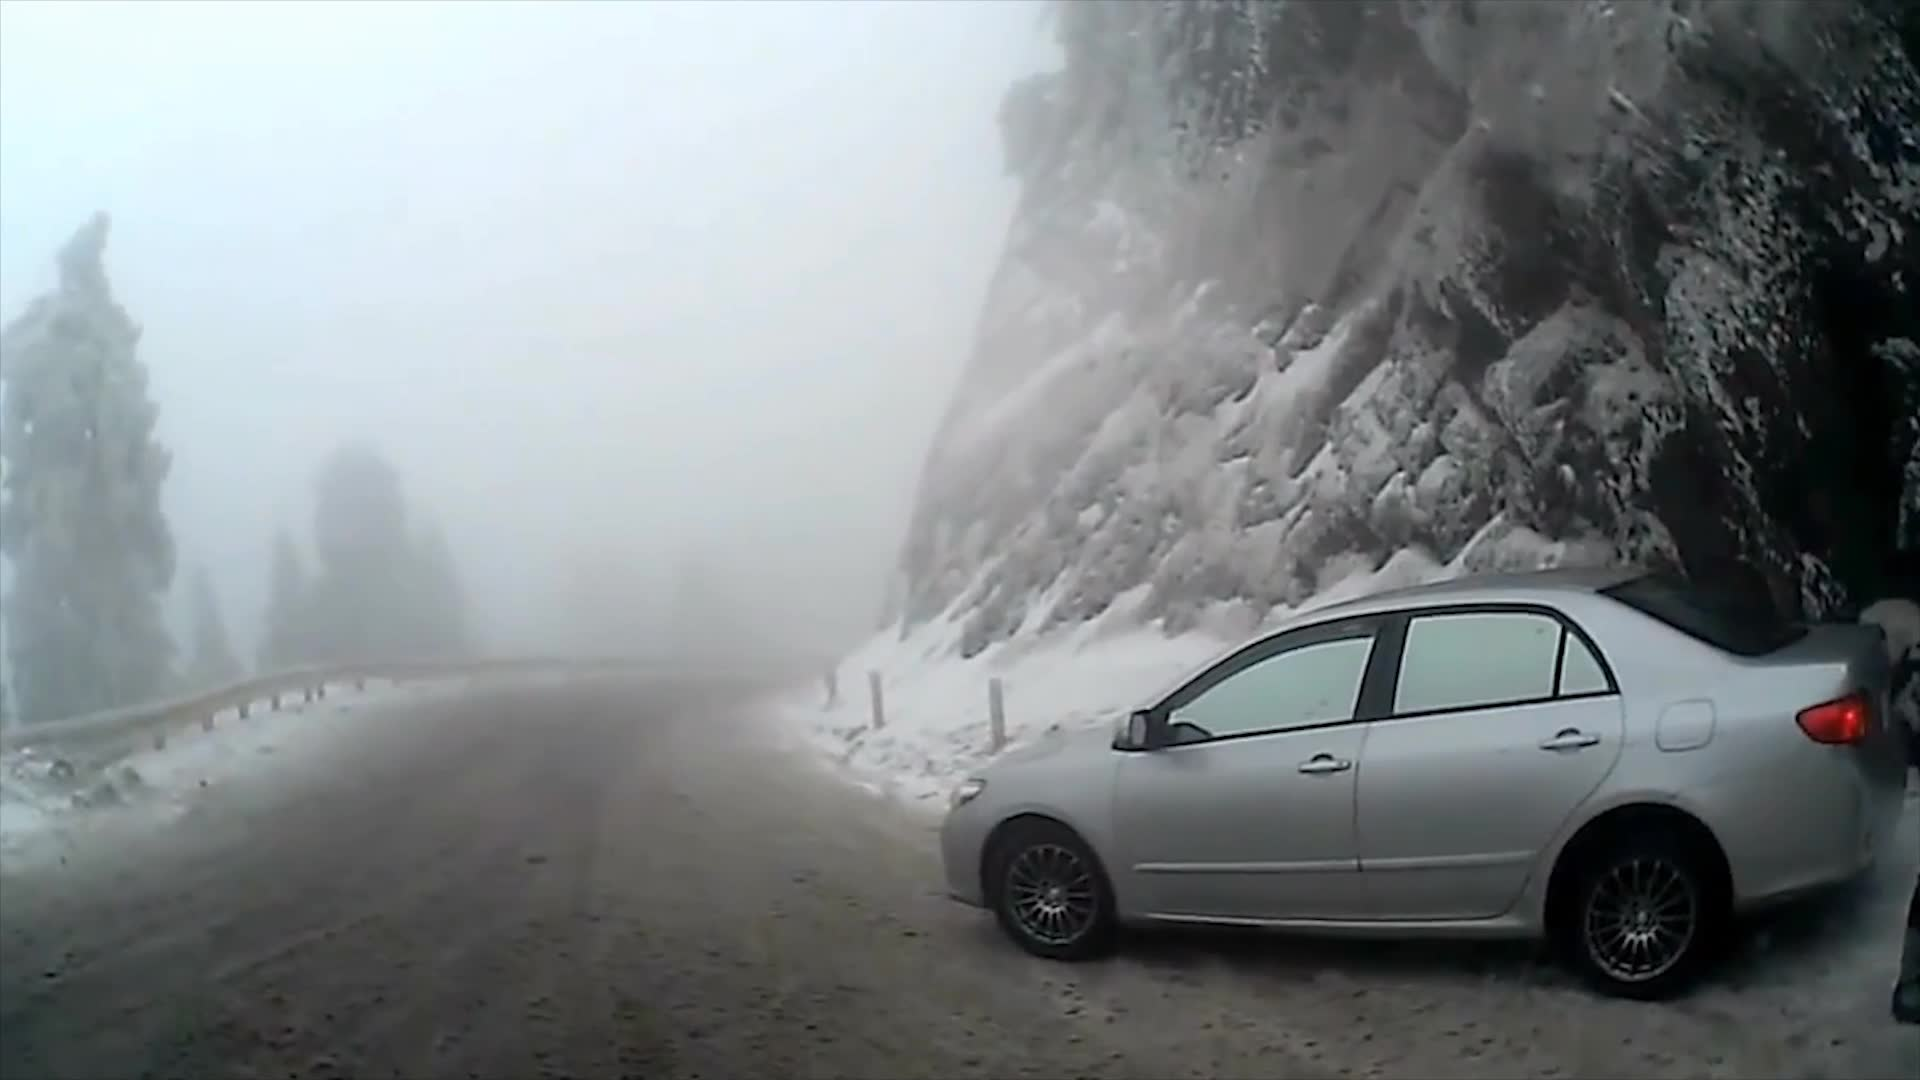vehicle: (944, 568, 1905, 1005)
